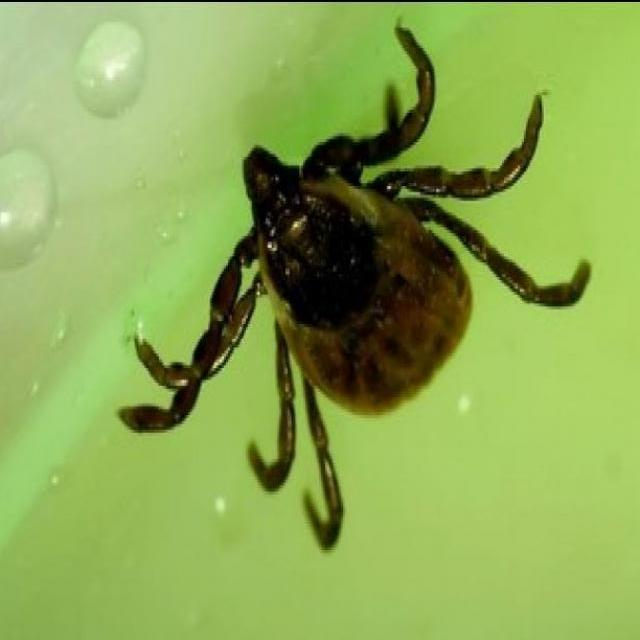Rhipicephalus Sanguineus-F: (117, 23, 591, 548)
